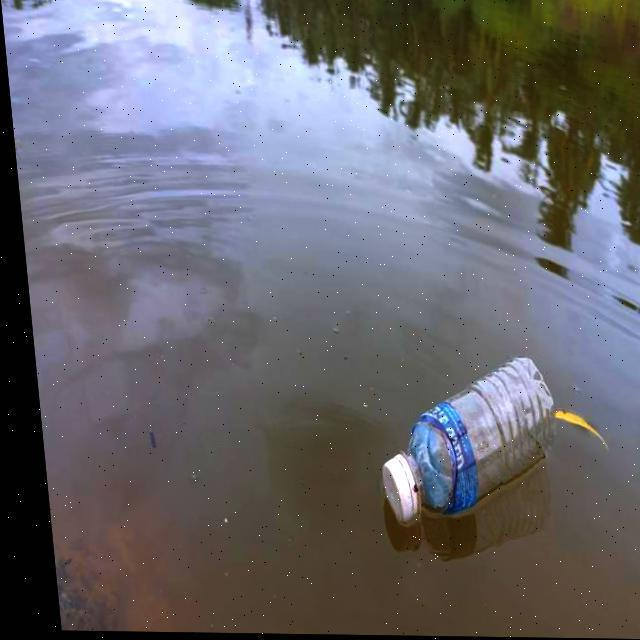Bottle: (376, 350, 558, 527)
